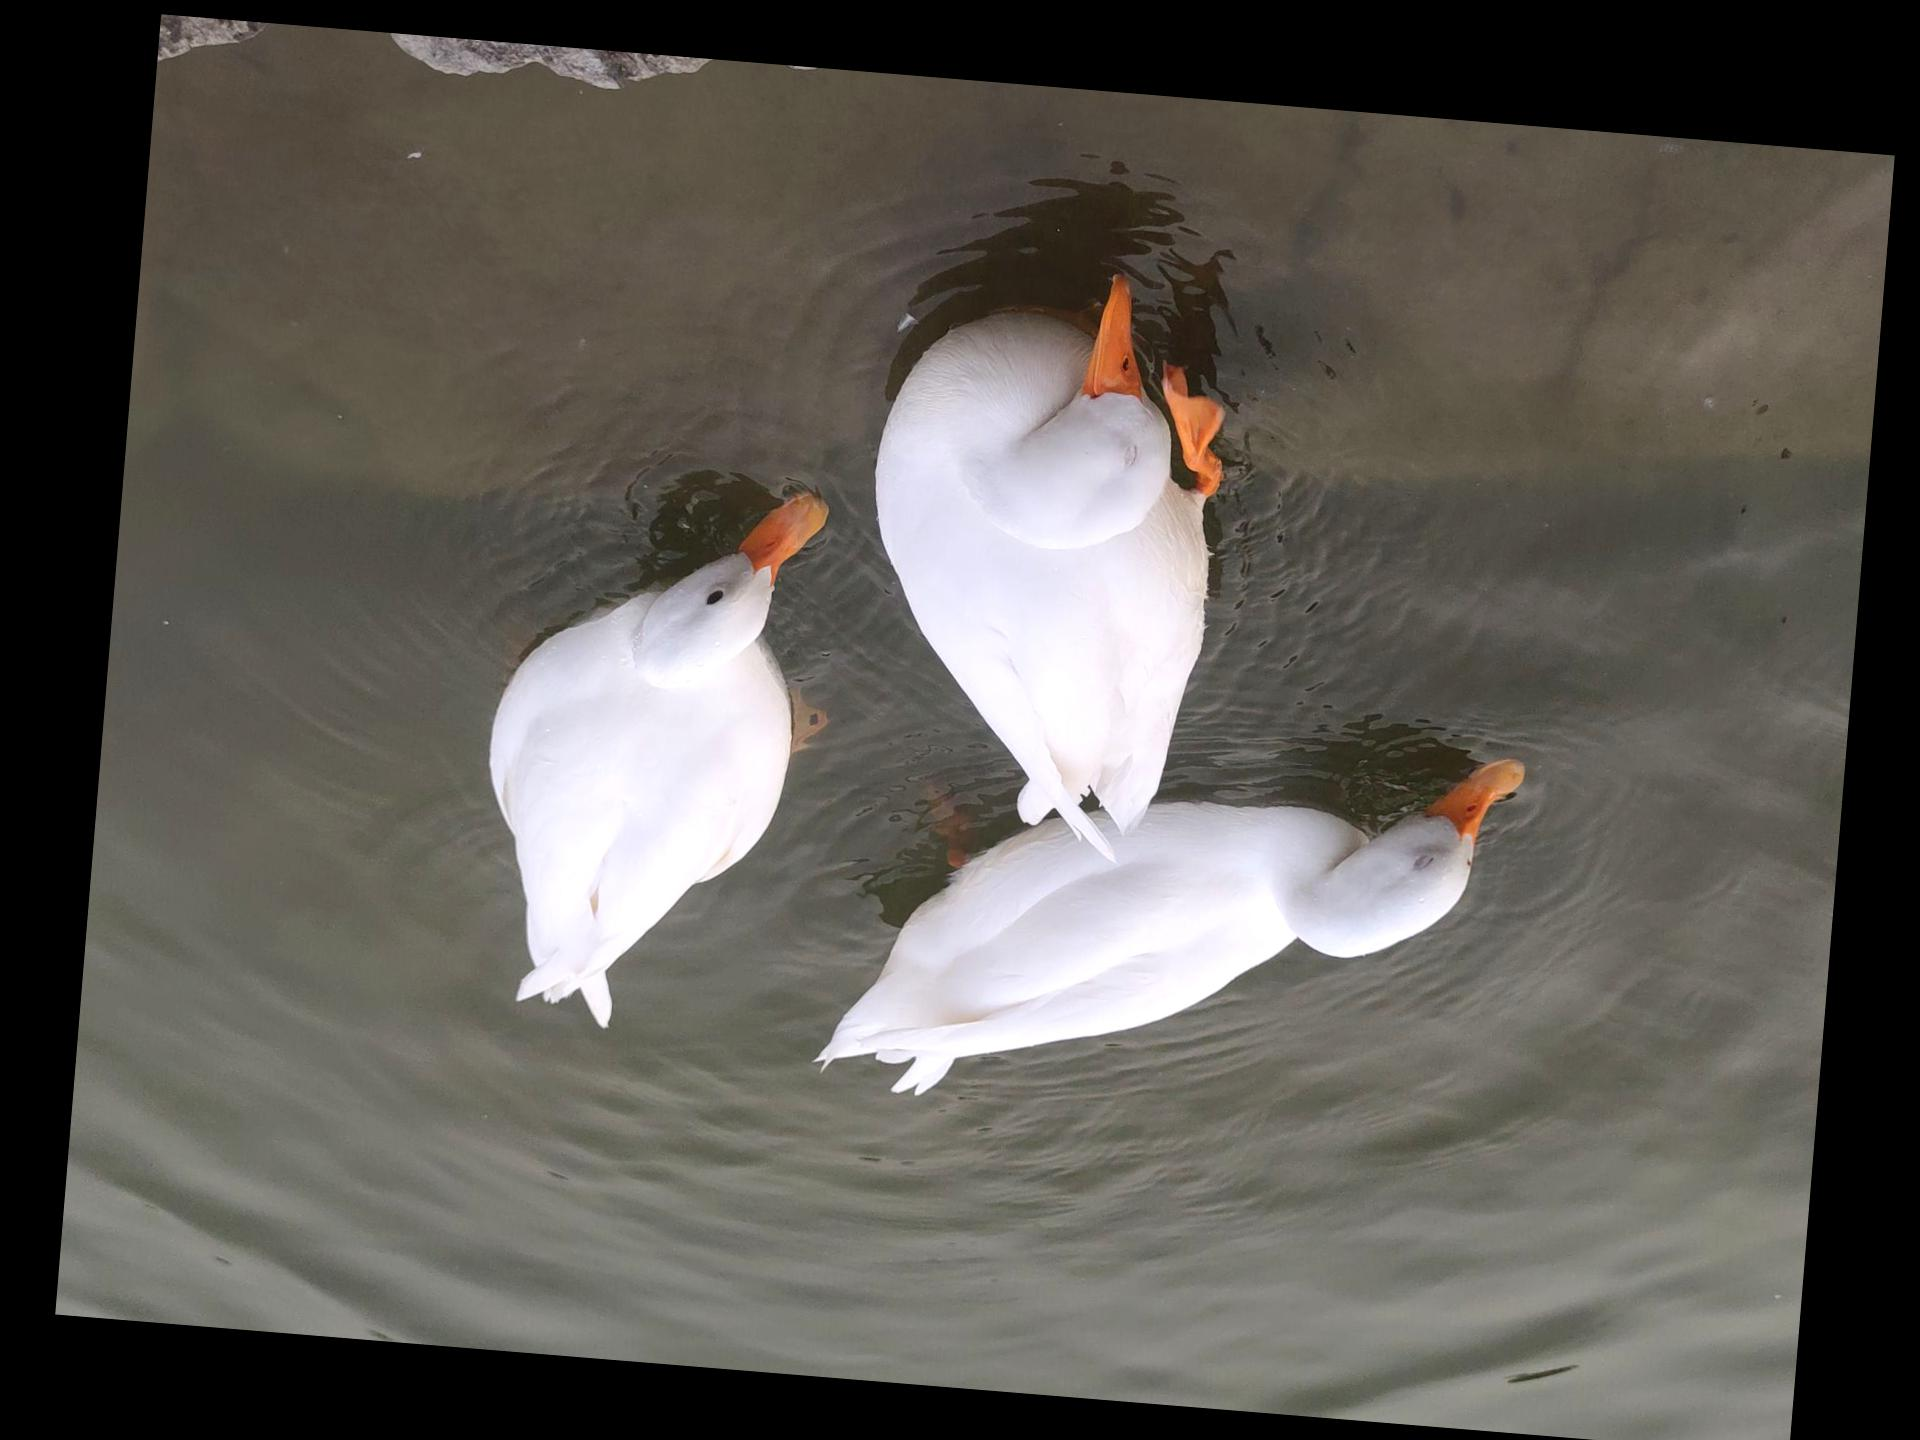duck: (788, 682, 1544, 1168), (822, 244, 1262, 879), (432, 458, 841, 1060)
